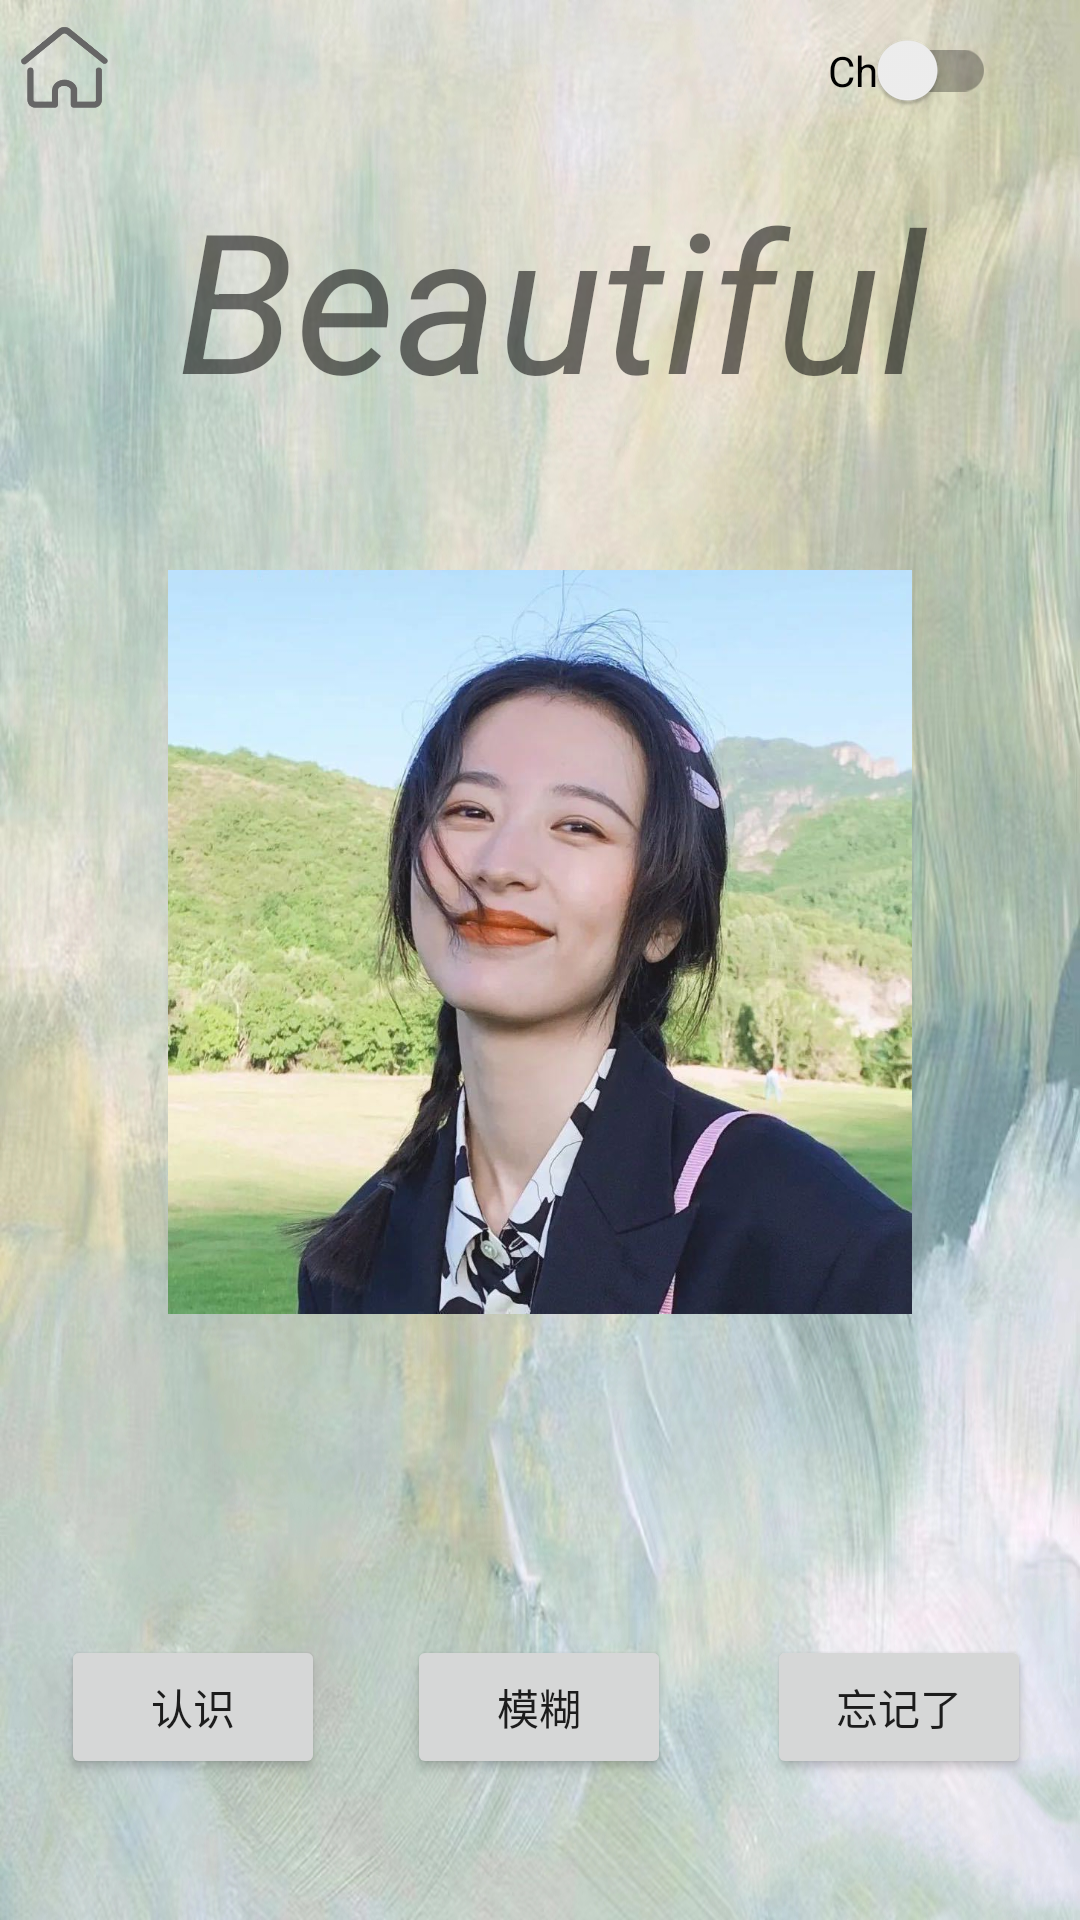

Icon bounding boxes for this 1080 x 1920 phone screenshot, format (x1, y1, x2, y2):
home: (21, 6, 108, 108)
